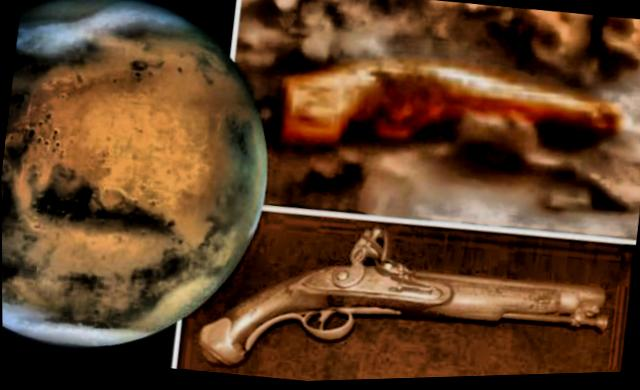pistol: (196, 207, 615, 385)
